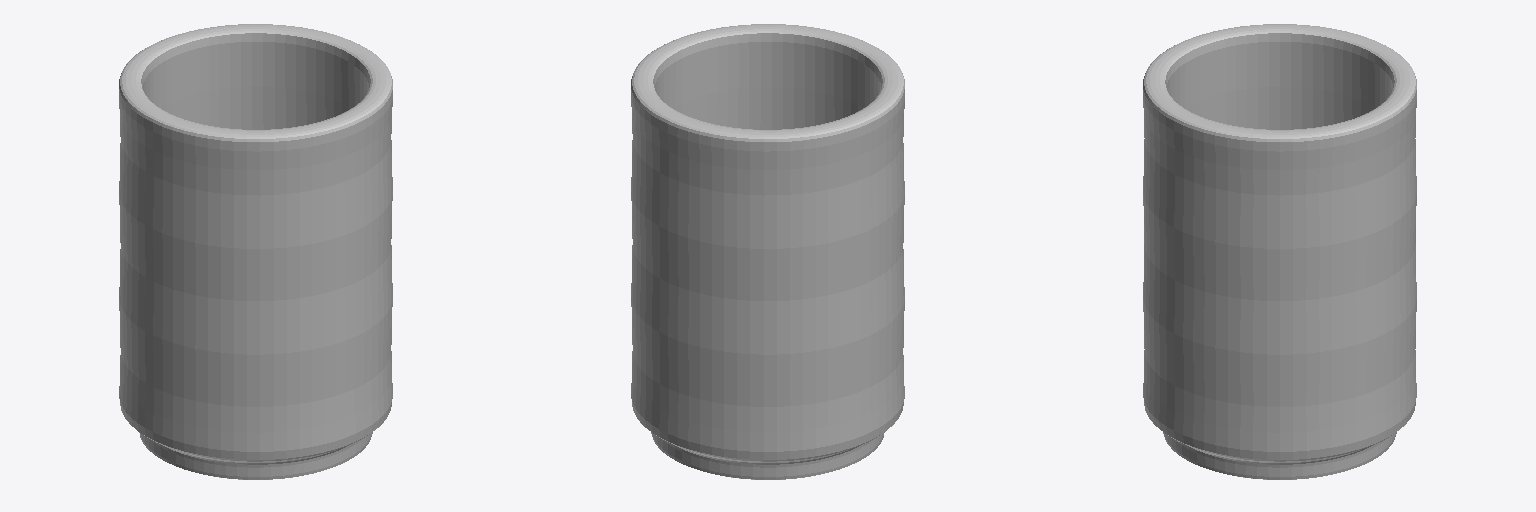
File: cup.obj
The picture shows the model from 3 angles: view 1: azimuth 30°, elevation 25°; view 2: azimuth 150°, elevation 25°; view 3: azimuth 270°, elevation 25°; orthographic projection.
Visible parts, largest first — view 1: Circle.001_Circle.004; view 2: Circle.001_Circle.004; view 3: Circle.001_Circle.004.
Boxes of the visible parts, x1=… form: Circle.001_Circle.004: x1=119, y1=24, x2=392, y2=479; Circle.001_Circle.004: x1=631, y1=24, x2=904, y2=479; Circle.001_Circle.004: x1=1143, y1=24, x2=1416, y2=479.
Size of the model in its own units: 9.94 by 14.08 by 9.94.